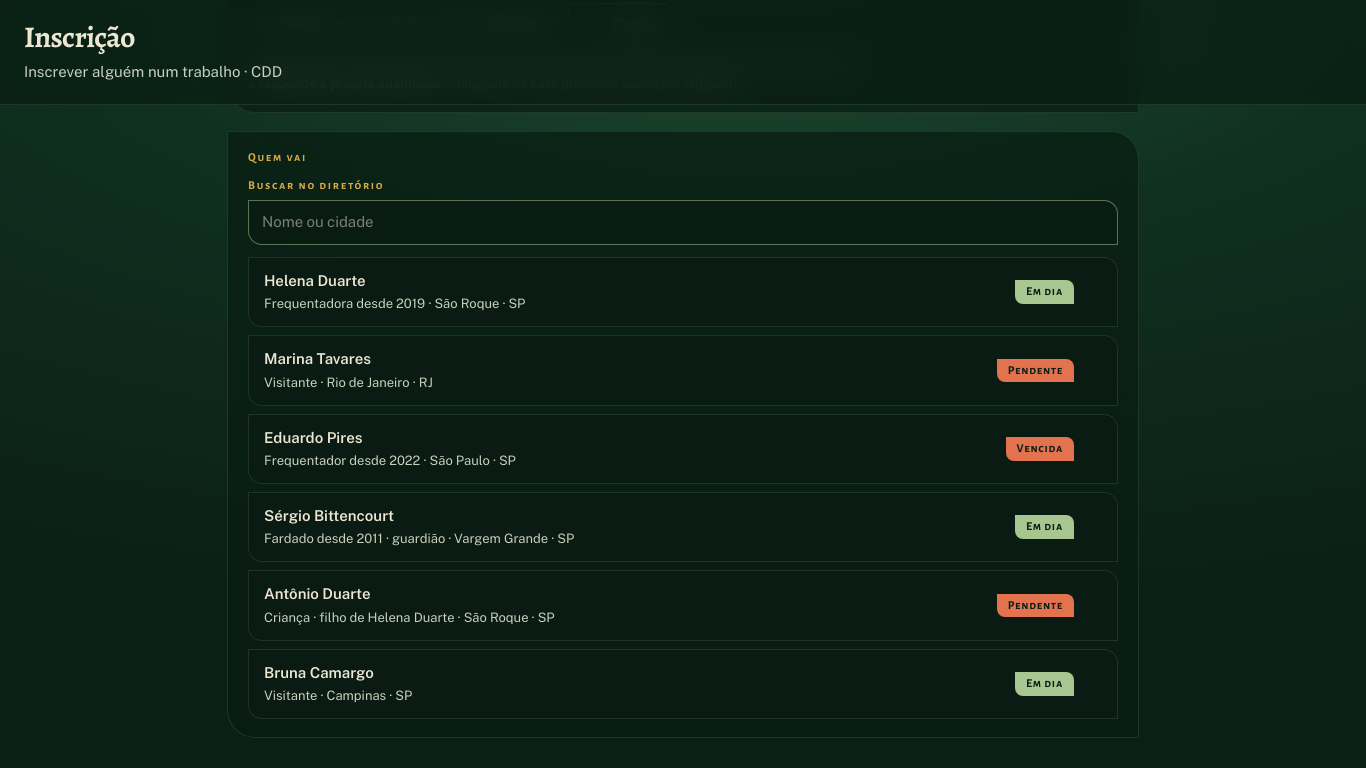
InscricaoPage: ficha da pessoa escolhida › escolher Antônio — a ficha traz o selo de menor de idade
(page scrolled)
Click the button that starts with "Antônio Duarte". click: (317, 594)
box: [248, 570, 1118, 641]
(page scrolled)
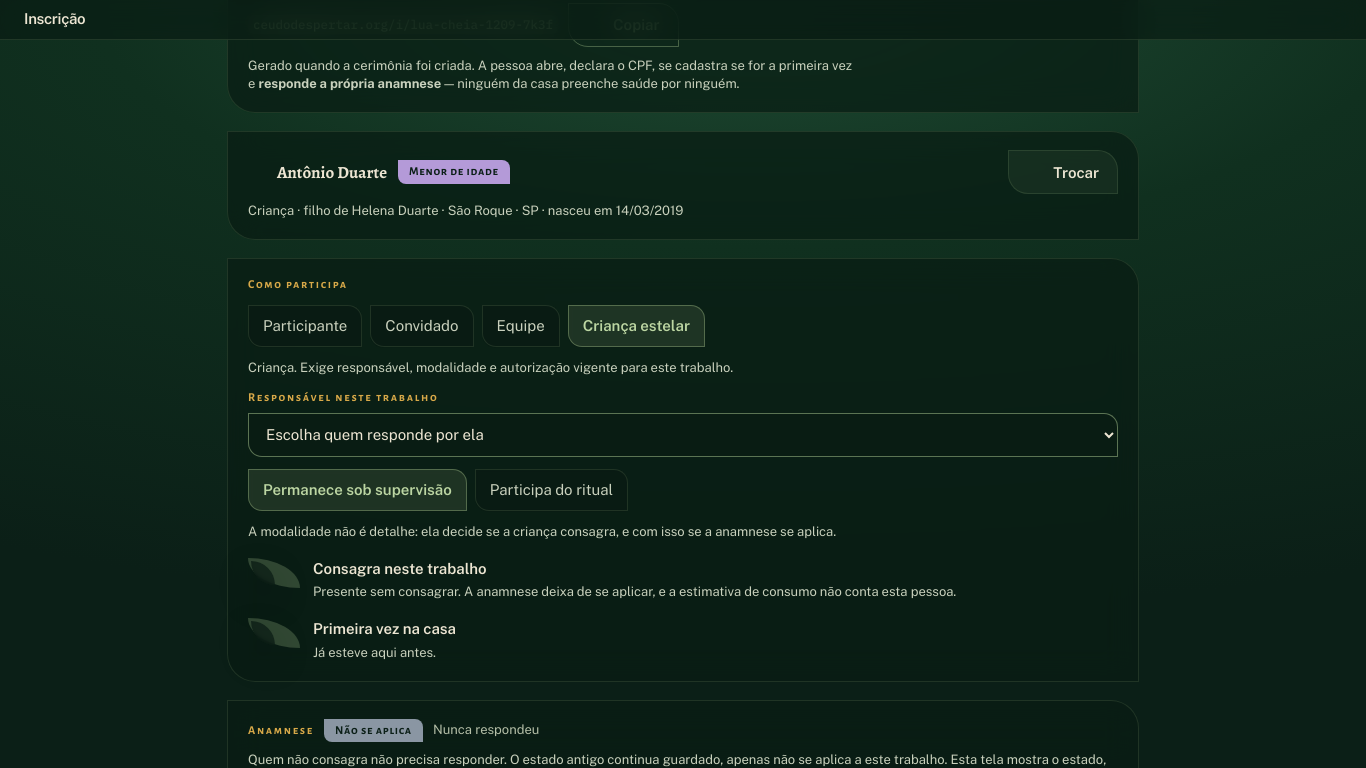
Check: the text "Menor de idade" is shown, box [398, 160, 510, 184]
